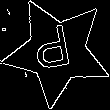P_S: (34, 23, 80, 80)
